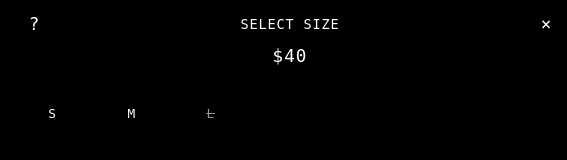
Test: SizePanel — Unit / Component › al tocar un talle muestra "ADDING" brevemente
The image size is (567, 160).
Click the button with test id "size-S": (53, 114) [18,94,87,133]
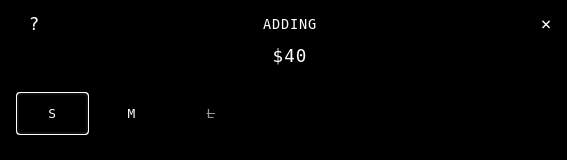
Expected: the text with test id "panel-header" reads "ADDING", [263,16,317,32]
